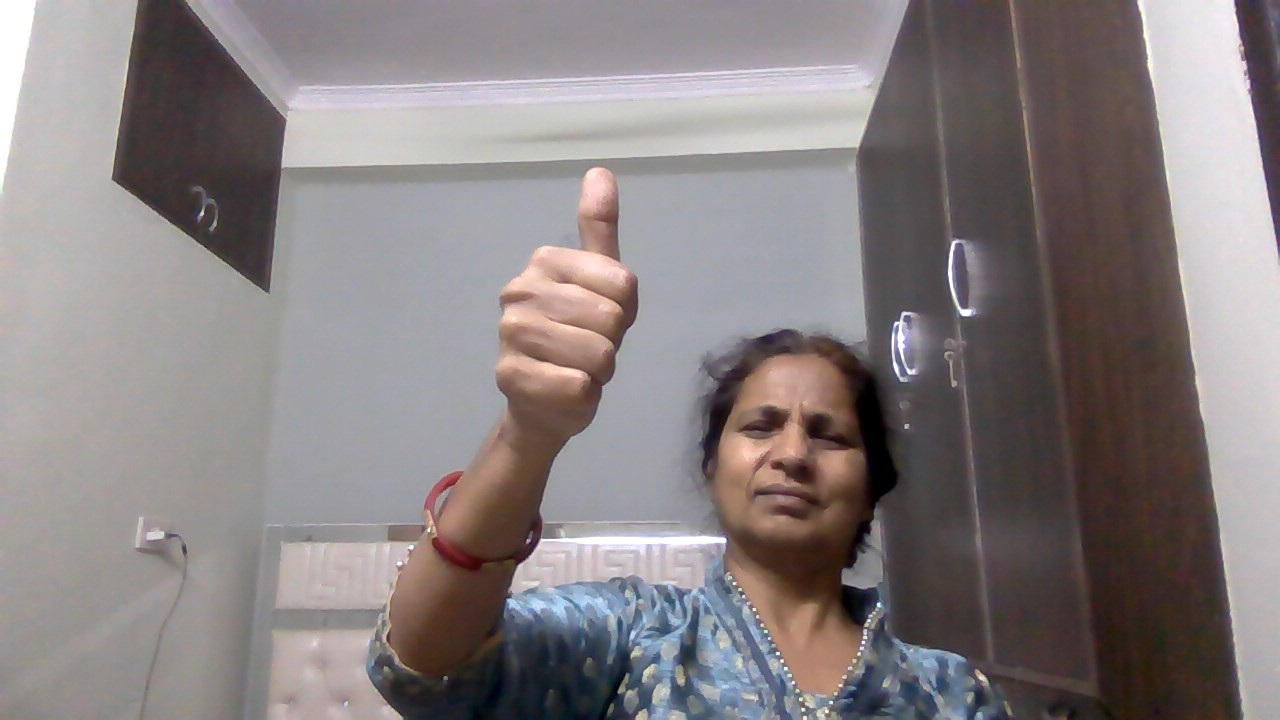Save: (484, 157, 650, 464)
